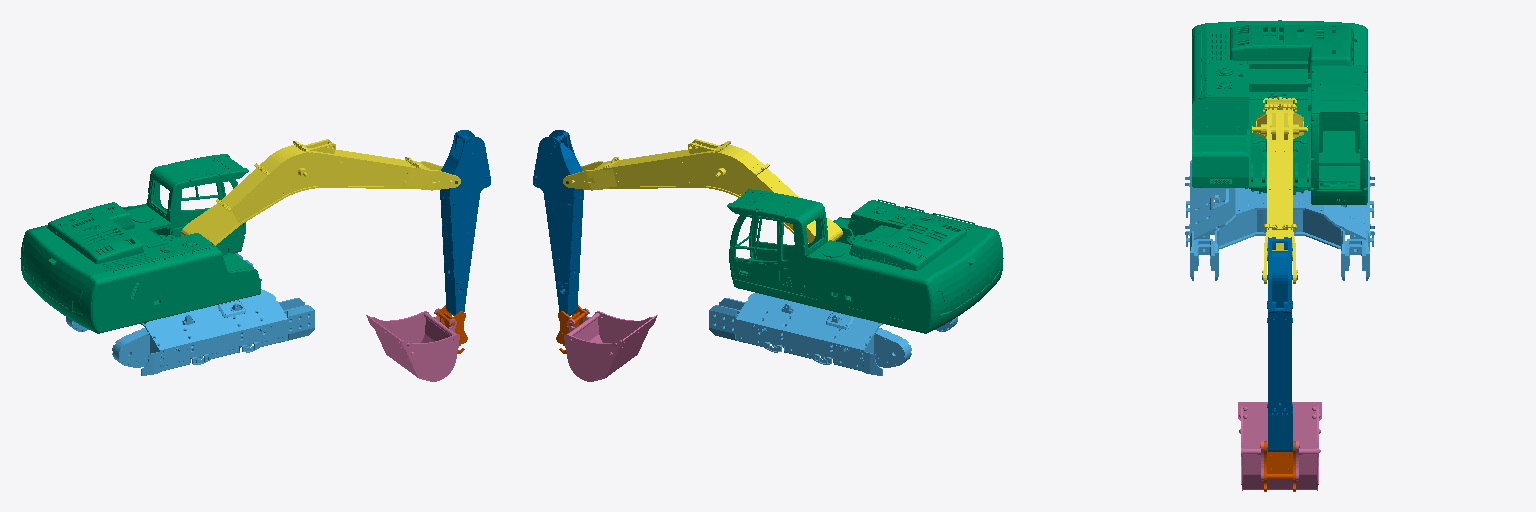
robot.urdf — excavator_bucket:
<?xml version='1.0' encoding='utf-8'?>
<robot name="excavator_bucket">
  <link name="world" />
  <joint name="world_fixed" type="fixed">
    <parent link="world" />
    <child link="lower_carriage" />
    <origin xyz="7.4505806e-09 -4.65661287e-10 0.0799999106" rpy="0 0 0" />
  </joint>
  <link name="lower_carriage">
    <inertial>
      <origin xyz="0.00459389994 -0.000172800006 -0.0382546" rpy="0 0 0" />
      <mass value="6.5" />
      <inertia ixx="0.0494419532" ixy="0.000532120753" ixz="0.000543117494" iyy="0.0529755545" iyz="-3.43905757e-05" izz="0.097093089" />
    </inertial>
    <visual name="Mesh">
      <geometry>
        <mesh filename="meshes/Mesh.obj" />
      </geometry>
      <origin xyz="-1.3416743e-10 -1.36495368e-11 3.00246356e-11" rpy="2.52539498e-10 -2.23827179e-10 -1.38038848e-09" />
    </visual>
    <collision name="Mesh">
      <geometry>
        <mesh filename="meshes/Mesh_1.obj" />
      </geometry>
      <origin xyz="-1.3416743e-10 -1.36495368e-11 3.00246356e-11" rpy="2.52539498e-10 -2.23827179e-10 -1.38038848e-09" />
    </collision>
  </link>
  <link name="upper_carriage">
    <inertial>
      <origin xyz="-0.082165651 0.00132323999 0.0460170582" rpy="0 0 0" />
      <mass value="8.10000038" />
      <inertia ixx="0.0446462752" ixy="-0.0058658417" ixz="0.000210236365" iyy="0.0700401432" iyz="-0.00203415657" izz="0.0956369562" />
    </inertial>
    <visual name="Mesh">
      <geometry>
        <mesh filename="meshes/Mesh_2.obj" />
      </geometry>
      <origin xyz="7.43387258e-09 -1.23869916e-09 1.42557127e-08" rpy="1.16728021e-09 1.97707539e-09 1.26425587e-09" />
    </visual>
    <collision name="Mesh">
      <geometry>
        <mesh filename="meshes/Mesh_3.obj" />
      </geometry>
      <origin xyz="7.43387258e-09 -1.23869916e-09 1.42557127e-08" rpy="1.16728021e-09 1.97707539e-09 1.26425587e-09" />
    </collision>
  </link>
  <link name="lift_boom">
    <inertial>
      <origin xyz="0.199810997 -9.40000027e-05 -0.0444680005" rpy="0 0 0" />
      <mass value="1.15298998" />
      <inertia ixx="0.00493442618" ixy="2.05159605e-06" ixz="0.0072826539" iyy="0.0213519858" iyz="3.60221078e-06" izz="0.0167195885" />
    </inertial>
    <visual name="Mesh">
      <geometry>
        <mesh filename="meshes/Mesh_4.obj" />
      </geometry>
      <origin xyz="6.10918277e-08 -2.1589419e-08 -4.05320736e-08" rpy="2.62739855e-07 1.00496056 2.12472773e-07" />
    </visual>
    <collision name="Mesh">
      <geometry>
        <mesh filename="meshes/Mesh_5.obj" />
      </geometry>
      <origin xyz="6.10918277e-08 -2.1589419e-08 -4.05320736e-08" rpy="2.62739855e-07 1.00496056 2.12472773e-07" />
    </collision>
  </link>
  <link name="tilt_boom">
    <inertial>
      <origin xyz="0.0650499985 -4.99999987e-05 0.0178399999" rpy="0 0 0" />
      <mass value="0.776260018" />
      <inertia ixx="0.000359971575" ixy="1.18316197e-11" ixz="0.000676012881" iyy="0.00604417361" iyz="-4.98380413e-12" izz="0.00586303623" />
    </inertial>
    <visual name="Mesh">
      <geometry>
        <mesh filename="meshes/Mesh_6.obj" />
      </geometry>
      <origin xyz="9.53558736e-08 -2.66804992e-08 -2.58573682e-08" rpy="-3.14159262 -1.43151972 3.14159255" />
    </visual>
    <collision name="Mesh">
      <geometry>
        <mesh filename="meshes/Mesh_7.obj" />
      </geometry>
      <origin xyz="9.53558736e-08 -2.66804992e-08 -2.58573682e-08" rpy="-3.14159262 -1.43151972 3.14159255" />
    </collision>
  </link>
  <link name="tool_body">
    <inertial>
      <origin xyz="0.0265997909 0 -0.0101976469" rpy="0 0 0" />
      <mass value="0.136999995" />
      <inertia ixx="4.02884153e-05" ixy="0" ixz="4.81998596e-06" iyy="6.00939347e-05" iyz="0" izz="8.15477932e-05" />
    </inertial>
    <visual name="Mesh">
      <geometry>
        <mesh filename="meshes/Mesh_8.obj" />
      </geometry>
      <origin xyz="7.47656789e-08 1.83933941e-09 1.33092306e-07" rpy="3.94782934e-07 0.753980772 7.0382105e-08" />
    </visual>
    <collision name="Mesh">
      <geometry>
        <mesh filename="meshes/Mesh_9.obj" />
      </geometry>
      <origin xyz="7.47656789e-08 1.83933941e-09 1.33092306e-07" rpy="3.94782934e-07 0.753980772 7.0382105e-08" />
    </collision>
  </link>
  <link name="bucket">
    <inertial>
      <origin xyz="3.48836365e-05 0.0272149146 -0.04957629" rpy="0 0 0" />
      <mass value="0.474999994" />
      <inertia ixx="0.000964227458" ixy="-6.24698481e-08" ixz="-7.05054432e-07" iyy="0.00117944899" iyz="0.000197167512" izz="0.00110239076" />
    </inertial>
    <visual name="Mesh">
      <geometry>
        <mesh filename="meshes/Mesh_10.obj" />
      </geometry>
      <origin xyz="1.06665941e-08 0.0378226592 0.0334291546" rpy="-2.67106557e-07 0.335104083 -1.57079625" />
    </visual>
    <collision name="Mesh">
      <geometry>
        <mesh filename="meshes/Mesh_11.obj" />
      </geometry>
      <origin xyz="1.07987828e-08 0.0378226593 0.0334291545" rpy="-2.67299811e-07 0.335104081 -1.57079625" />
    </collision>
  </link>
  <joint name="revolute_carriage" type="continuous">
    <parent link="lower_carriage" />
    <child link="upper_carriage" />
    <axis xyz="0 0 1" />
    <limit effort="1000000" velocity="0.261799395" />
    <dynamics friction="0" />
    <!-- isaac:source_drive {"armature": 0.0, "drive": {"damping": 0.6981316804885864, "stiffness": 10.471975326538086, "target_position": -23.370637893676758}, "instance": "angular", "source": "physx", "unauthored_effort": {"effort": "1000000", "joint_type": "continuous", "mimic": null}} -->
    <origin xyz="0 0 0" rpy="0 0 0" />
  </joint>
  <joint name="revolute_lift" type="revolute">
    <origin xyz="0.0165000334 5.89998717e-09 0.0785000175" rpy="0 -0.455181874 0" />
    <parent link="upper_carriage" />
    <child link="lift_boom" />
    <axis xyz="0 1 0" />
    <limit lower="-0.914000015" upper="0.543000004" effort="1000000" velocity="0.17453292" />
    <dynamics friction="0" />
    <!-- isaac:source_drive {"armature": 0.0, "drive": {"damping": 2.094395160675049, "stiffness": 41.887901306152344, "target_position": -42.067237854003906}, "instance": "angular", "source": "physx", "unauthored_effort": {"effort": "1000000", "joint_type": "revolute", "mimic": null}} -->
  </joint>
  <joint name="revolute_tilt" type="revolute">
    <origin xyz="0.420348704 0 -0.205744803" rpy="0 0.455181874 0" />
    <parent link="lift_boom" />
    <child link="tilt_boom" />
    <axis xyz="0 1 0" />
    <limit lower="0.441999986" upper="2.55099993" effort="1000000" velocity="0.218166158" />
    <dynamics friction="0" />
    <!-- isaac:source_drive {"armature": 0.0, "drive": {"damping": 2.094395160675049, "stiffness": 41.887901306152344, "target_position": 88.25529479980469}, "instance": "angular", "source": "physx", "unauthored_effort": {"effort": "1000000", "joint_type": "revolute", "mimic": null}} -->
  </joint>
  <joint name="revolute_tool" type="revolute">
    <origin xyz="0.239905 0 -0.00675141811" rpy="0 0 0" />
    <parent link="tilt_boom" />
    <child link="tool_body" />
    <axis xyz="0 1 0" />
    <limit lower="-2.09500004" upper="0.390000001" effort="1000000" velocity="0.34906584" />
    <dynamics friction="0" />
    <!-- isaac:source_drive {"armature": 0.0, "drive": {"damping": 2.094395160675049, "stiffness": 41.887901306152344, "target_position": -63.99569320678711}, "instance": "angular", "source": "physx", "unauthored_effort": {"effort": "1000000", "joint_type": "revolute", "mimic": null}} -->
  </joint>
  <joint name="fix_tool" type="fixed">
    <origin xyz="0.0467125765 -6.7134634e-09 -0.0191310507" rpy="-0.335104079 -2.94564789e-07 1.57079629" />
    <parent link="tool_body" />
    <child link="bucket" />
  </joint>
</robot>

--- What the picture shows (computed from the rendered views, not written in the file) ---
Views: 3 orthographic renders of the robot side by side, from view 1: azimuth 30°, elevation 25°; view 2: azimuth 150°, elevation 25°; view 3: azimuth 270°, elevation 25°.
Model excavator_bucket with 7 links and 6 joints (3 revolute, 1 continuous, 2 fixed), rooted at world, posed all joints at 0 but 1 set to mid-range because 0 is outside their limits (revolute_tilt = 1.5).
Visible links, largest first — view 1: upper_carriage, lift_boom, lower_carriage, tilt_boom, bucket; view 2: upper_carriage, lower_carriage, lift_boom, tilt_boom, bucket; view 3: upper_carriage, lower_carriage, tilt_boom, bucket, lift_boom, tool_body.
Boxes of the visible links, x1=… form: upper_carriage: x1=20, y1=154, x2=261, y2=333; lift_boom: x1=181, y1=139, x2=460, y2=245; lower_carriage: x1=66, y1=253, x2=314, y2=375; tilt_boom: x1=440, y1=130, x2=490, y2=315; bucket: x1=366, y1=308, x2=459, y2=381; upper_carriage: x1=727, y1=189, x2=1003, y2=333; lower_carriage: x1=709, y1=293, x2=957, y2=375; lift_boom: x1=563, y1=139, x2=842, y2=243; tilt_boom: x1=533, y1=130, x2=583, y2=315; bucket: x1=564, y1=308, x2=657, y2=381; upper_carriage: x1=1192, y1=20, x2=1367, y2=204; lower_carriage: x1=1185, y1=160, x2=1374, y2=280; tilt_boom: x1=1262, y1=237, x2=1297, y2=451; bucket: x1=1238, y1=402, x2=1321, y2=490; lift_boom: x1=1252, y1=97, x2=1307, y2=283; tool_body: x1=1260, y1=441, x2=1299, y2=491.
Bounding box of the posed robot: 0.8079 × 0.2498 × 0.4501 m (x, y, z).
Meshes: 6 distinct files referenced, 6 mesh visuals loaded (6 OBJ).
